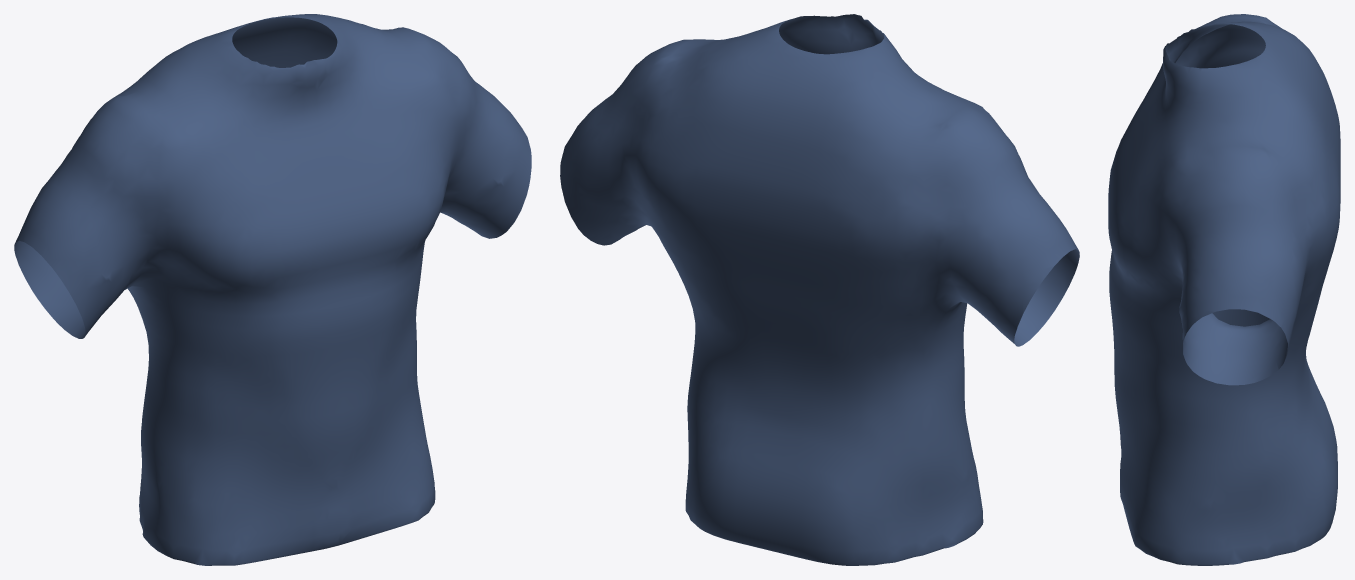
The model's file is TestTee.obj.
3 renders of one model, left to right at view 1: azimuth 30°, elevation 25°; view 2: azimuth 150°, elevation 25°; view 3: azimuth 270°, elevation 25°, orthographic. The views are drawn at different scales.
Visible parts, largest first — view 1: TestTee; view 2: TestTee; view 3: TestTee.
Part boxes in pixels (left/top/right/bottom): TestTee: left=14, top=14, right=531, bottom=565; TestTee: left=560, top=14, right=1079, bottom=565; TestTee: left=1108, top=14, right=1340, bottom=565.
Bounding box in the file's own units: 0.7133 × 0.6589 × 0.3029.
